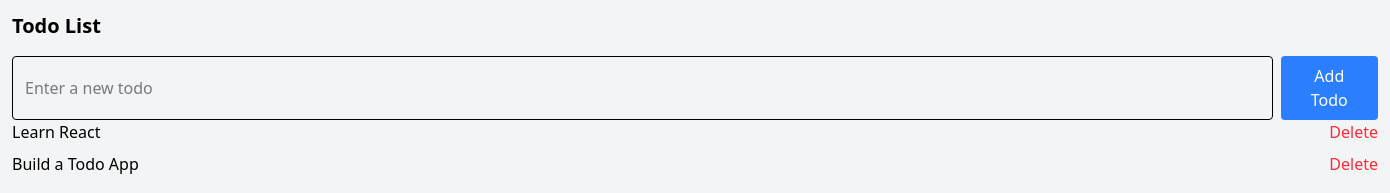
TodoList Component › can delete a todo
Click the button "Delete" in the row of "Build a Todo App" at (1354, 164), box [1329,152,1378,176]
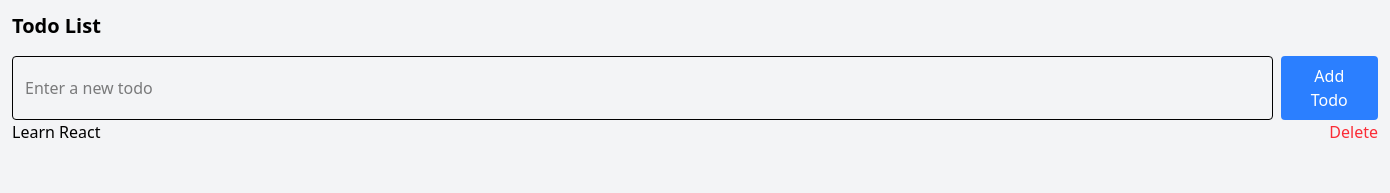
Expected: the text "Build a Todo App" is gone
